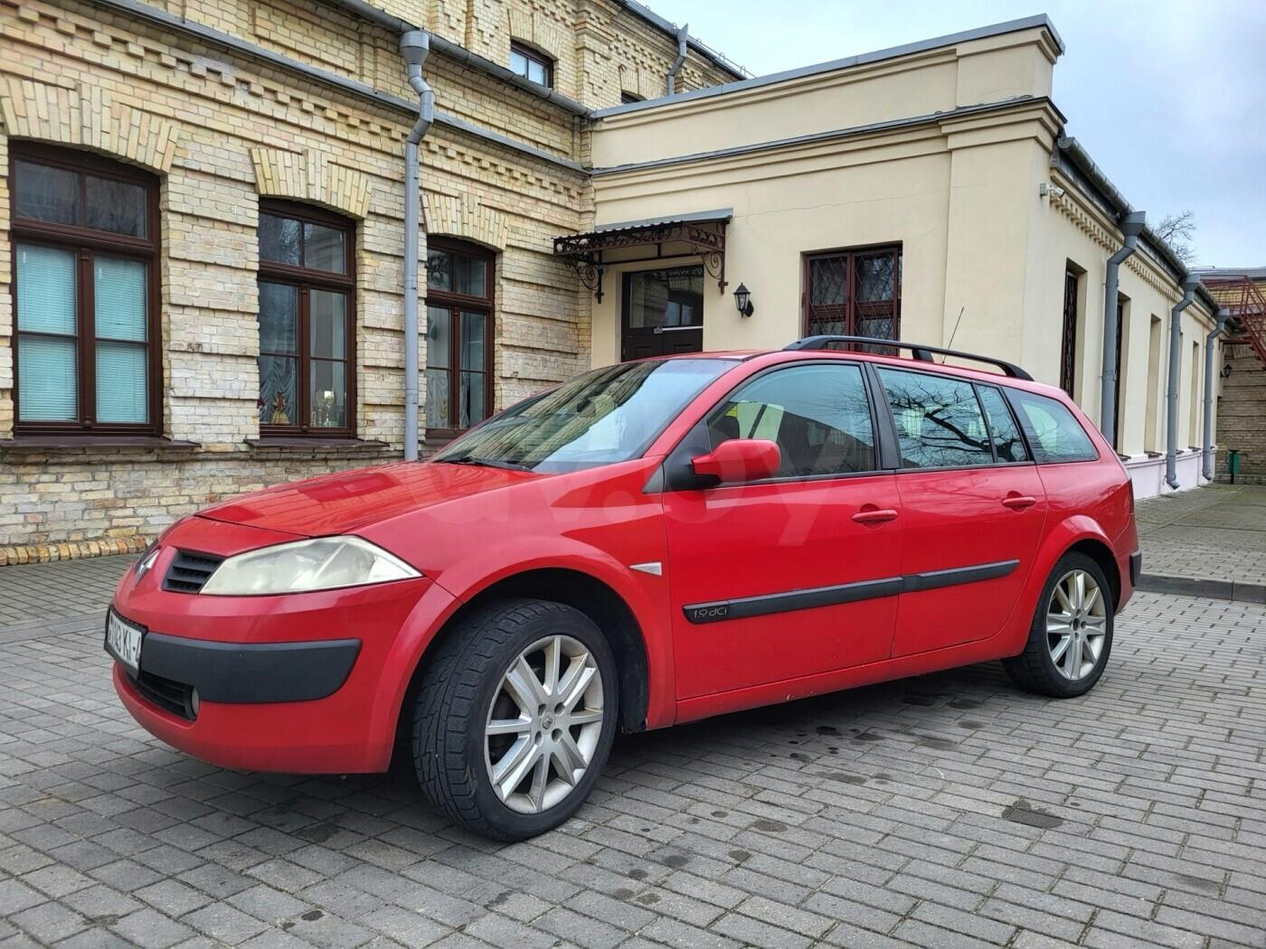Megane_2002-2006: (98, 342, 1139, 826)
